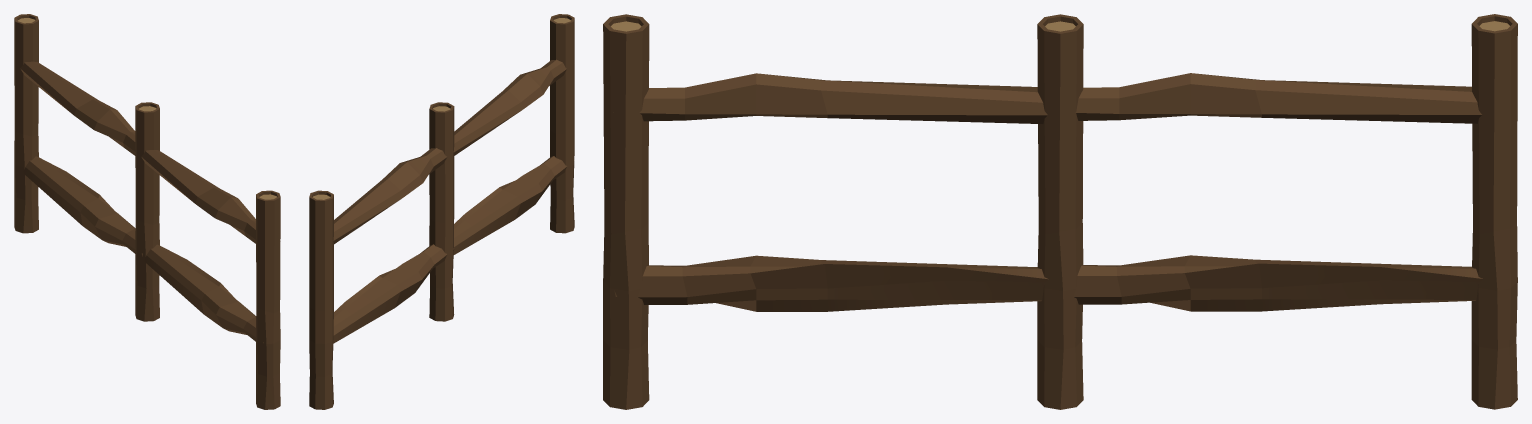
The model's file is pagar.fbx.
3 renders of one model, left to right at view 1: azimuth 30°, elevation 25°; view 2: azimuth 150°, elevation 25°; view 3: azimuth 270°, elevation 25°, orthographic. The views are drawn at different scales.
Visible parts, largest first — view 1: log_8a.006; view 2: log_8a.006; view 3: log_8a.006.
Boxes of the visible parts, <box> form: log_8a.006: <box>14,14,280,409</box>; log_8a.006: <box>309,14,574,409</box>; log_8a.006: <box>603,14,1517,409</box>.
Bounding box in the file's own units: 23.74 × 164 × 361.
